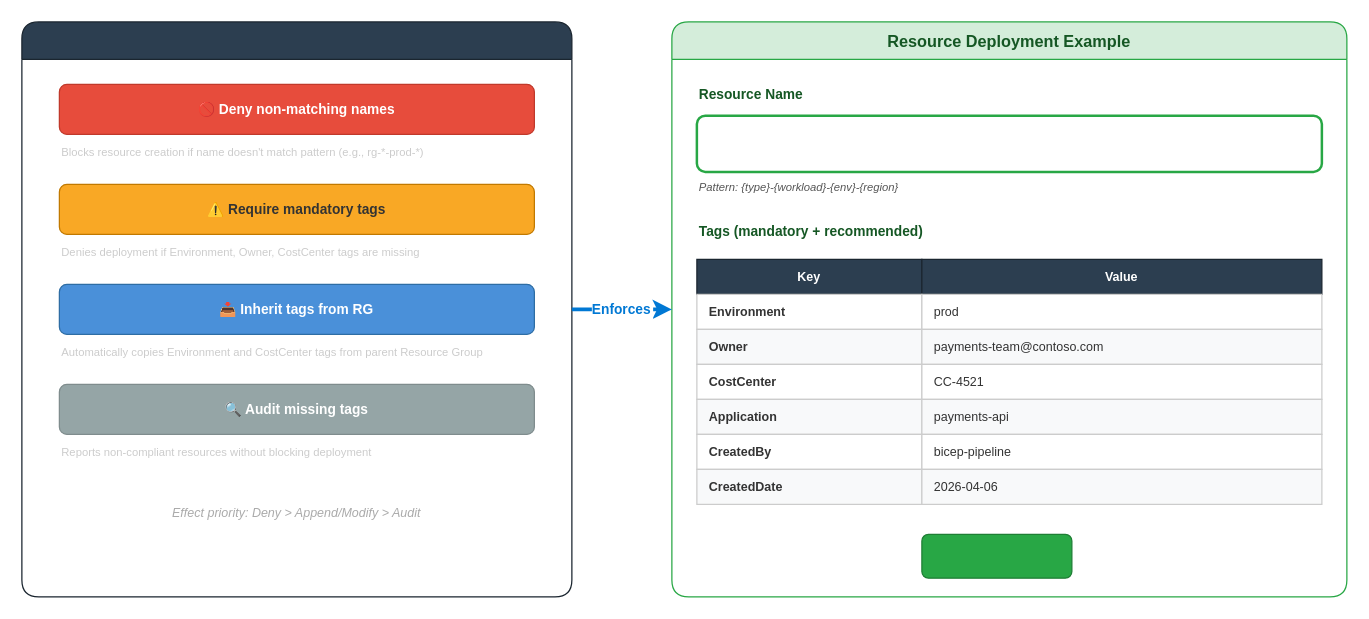
The diagram is 1369 pixels wide and 619 high, and some of its shapes have lost their labels. The shapes that lost their labels are listed below. From the top down, each one's box as (x1, y1, x2, y2) in pixels, then its label:
(695, 114, 1322, 172): ✅ rg-payments-prod-westeu
(21, 21, 572, 597): Azure Policy (Enforcement Layer)
(921, 533, 1072, 578): ✅ Compliant
